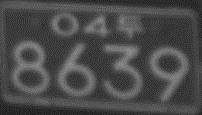0: (50, 11, 80, 37)
3: (102, 42, 144, 101)
4: (83, 13, 110, 39)
6: (57, 41, 96, 98)
8: (11, 39, 51, 95)
9: (148, 45, 189, 101)
두: (116, 11, 144, 38)
